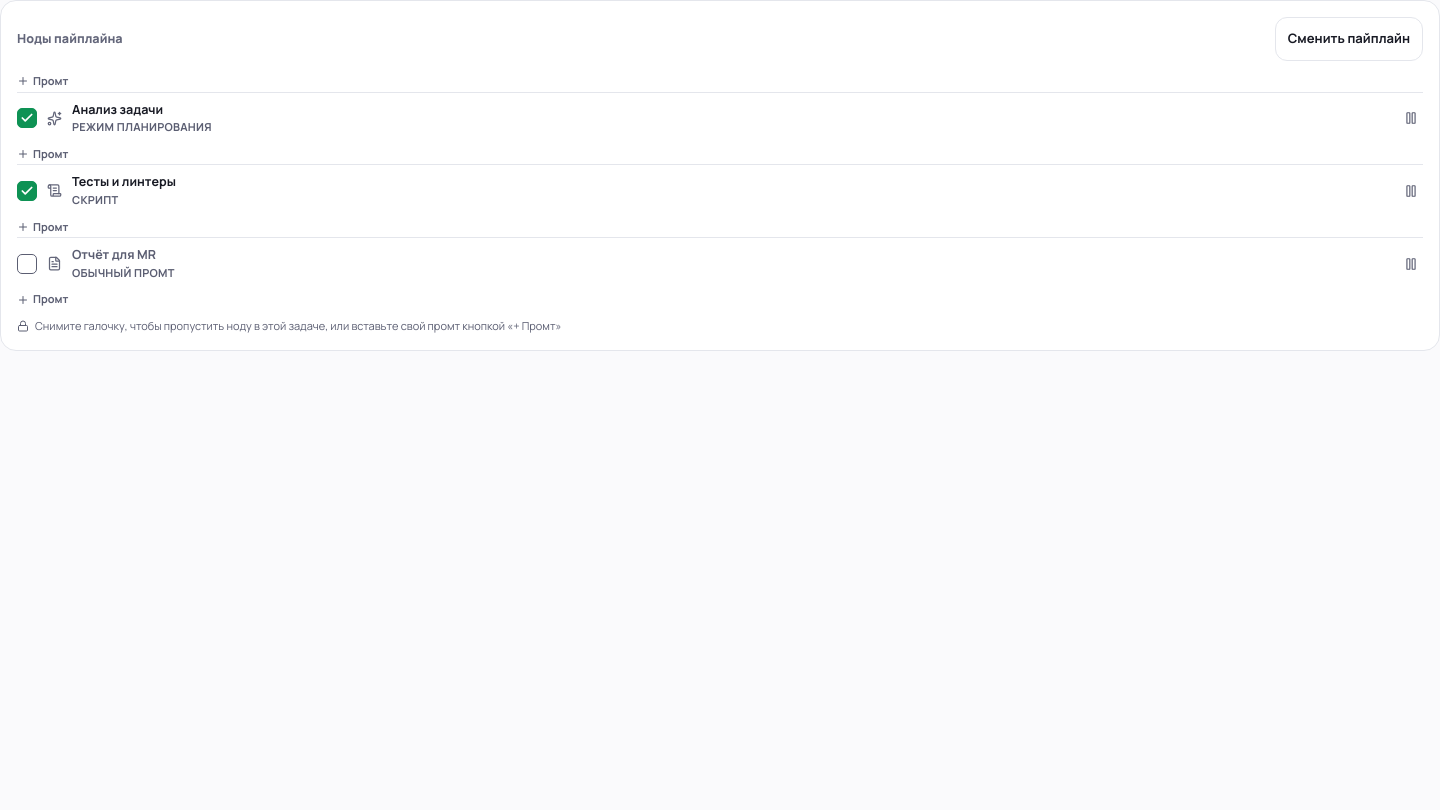
Test: TaskNodesCard › свои промты › вставка промта после ноды
This screenshot has width=1440, height=810.
Click the 2nd button "Промт" at (43, 154), box [17, 144, 68, 164]
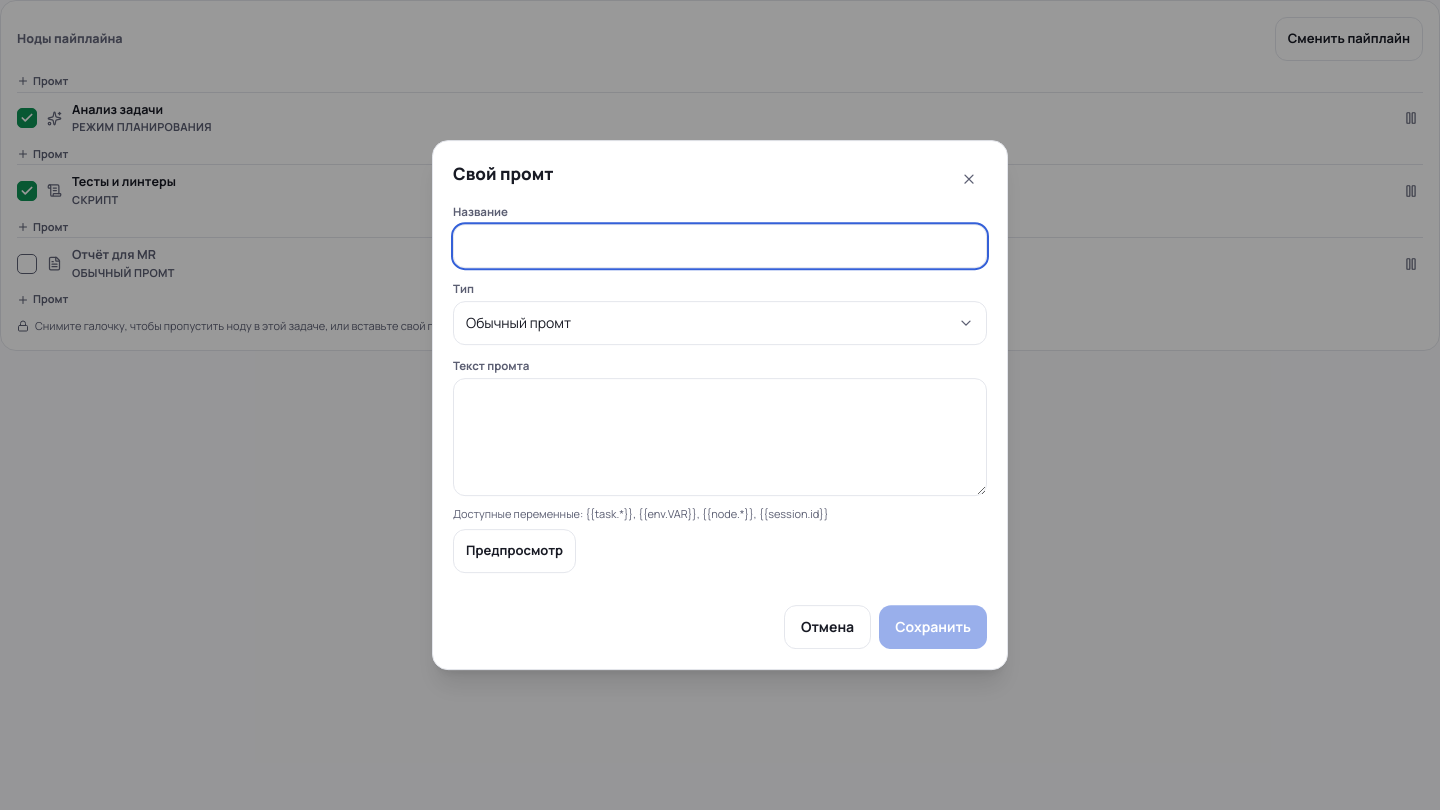
Type "Вопросы" into the field labelled "Название" at (720, 246), box [453, 224, 987, 268]
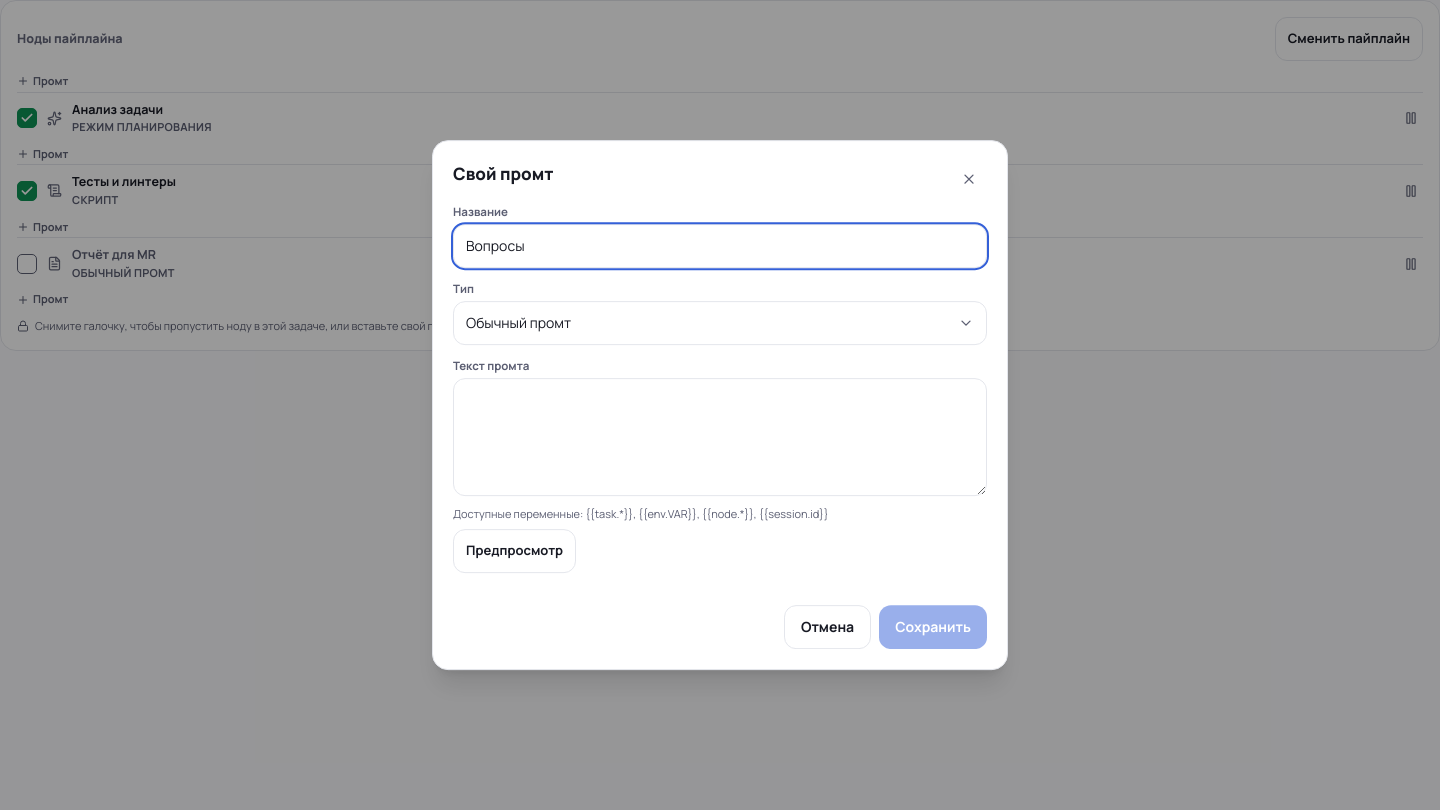
Type "Задай вопросы" into the text box labelled "Текст промта" at (720, 437), box [453, 378, 987, 496]
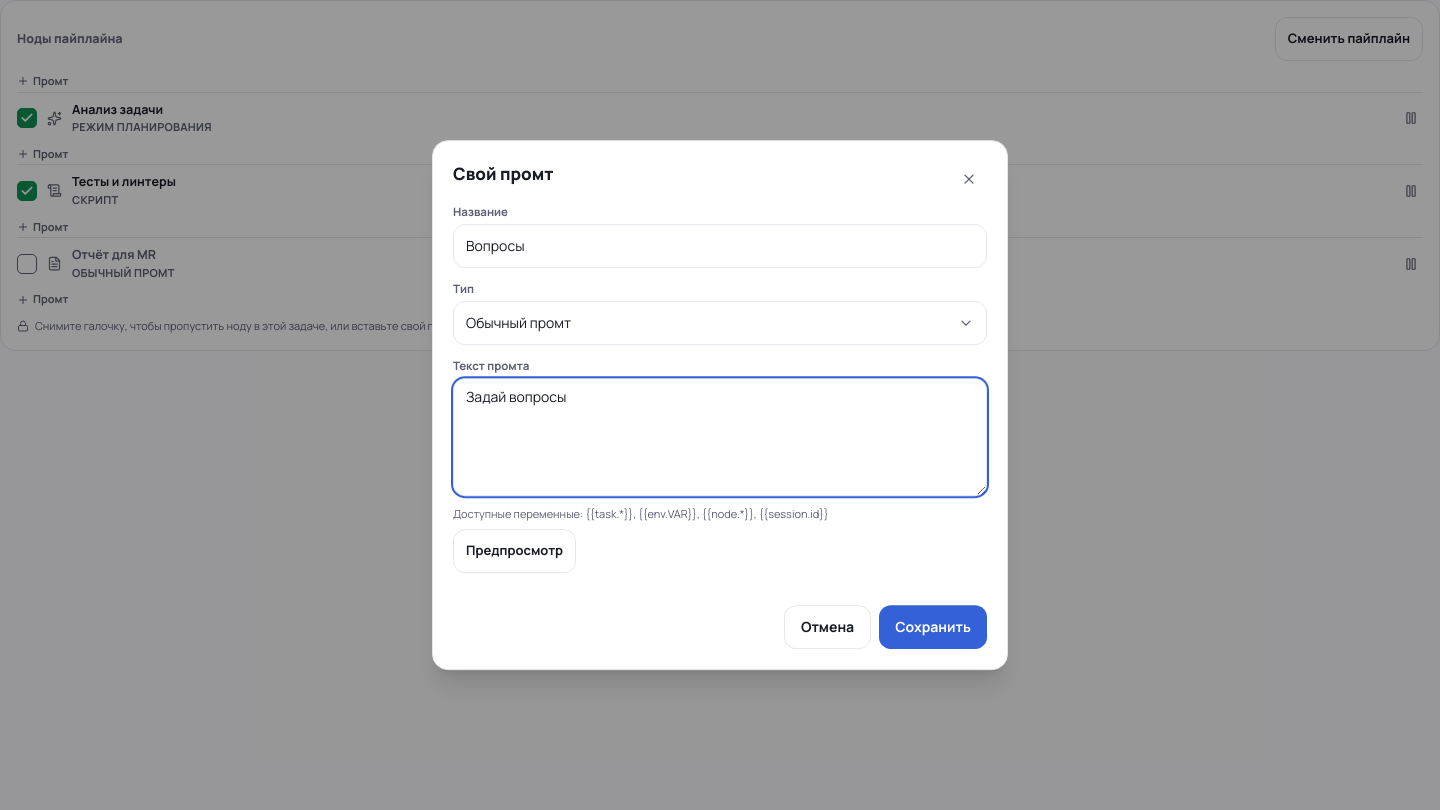
Click the button "Сохранить" at (933, 627), box [879, 605, 987, 649]
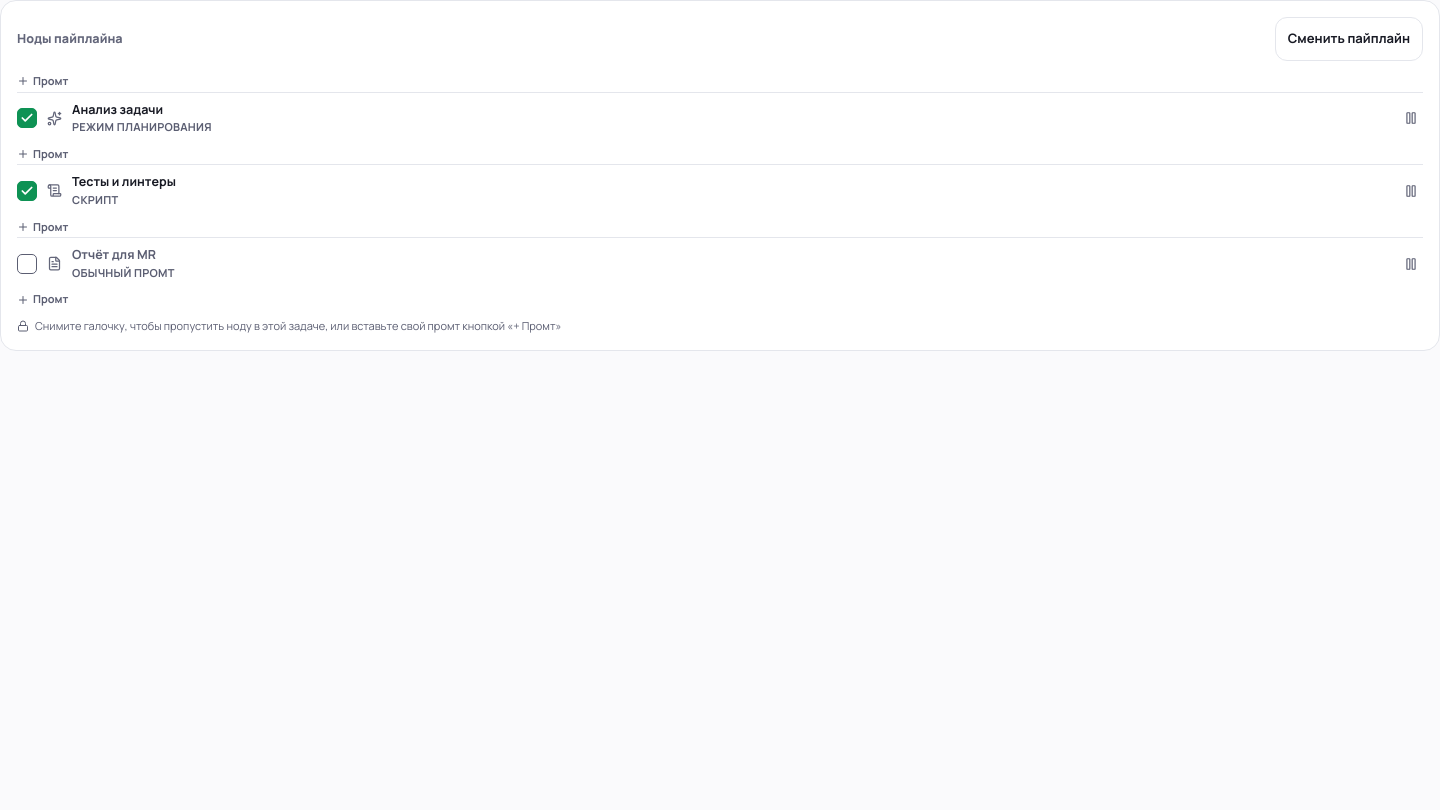
Expected: the dialog is gone
